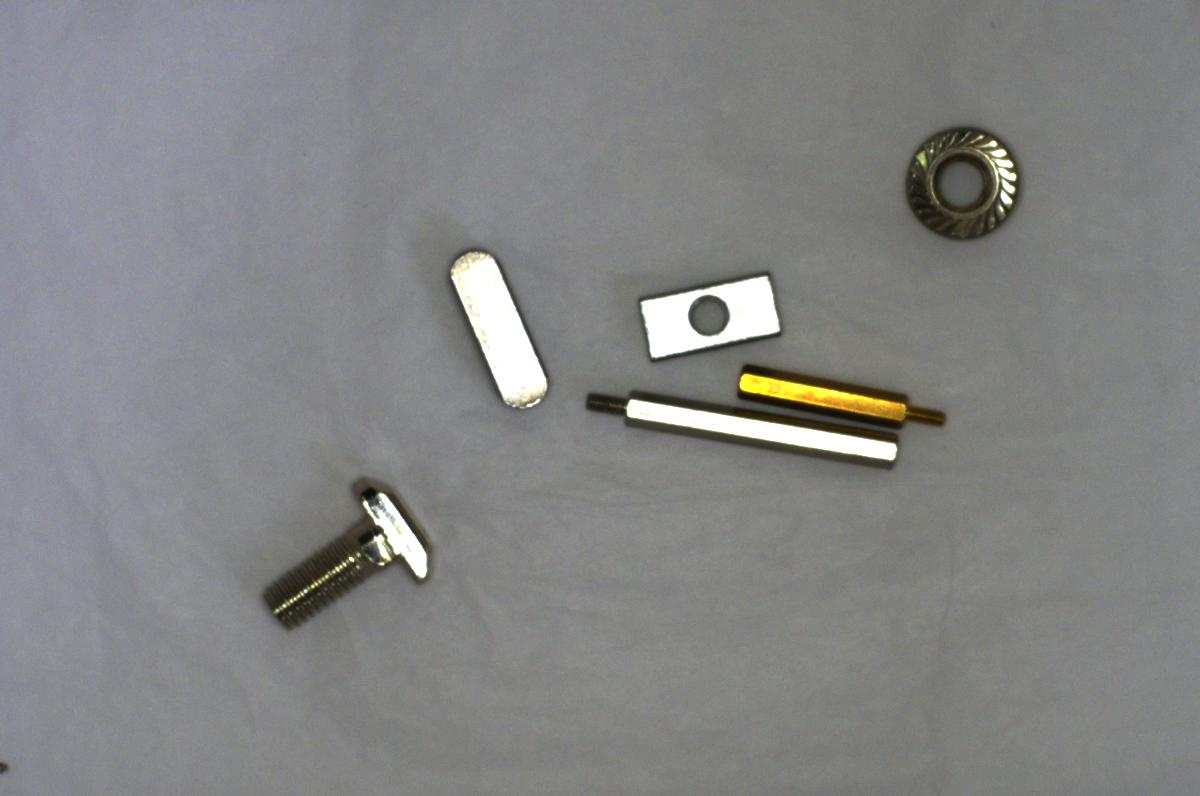Flange nut: (894, 119, 1030, 240)
Hexagon pillar: (730, 363, 952, 433)
Hexagonal steel column: (574, 382, 904, 475)
Keybar: (444, 242, 557, 421)
Rectangular nut: (638, 262, 786, 365)
T-shaped screw: (254, 467, 441, 638)
